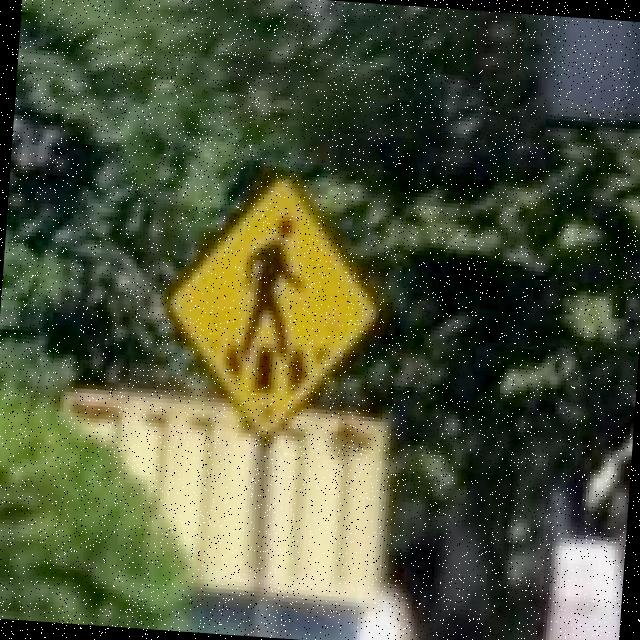Przejscie dla pieszych: (165, 176, 378, 437)
